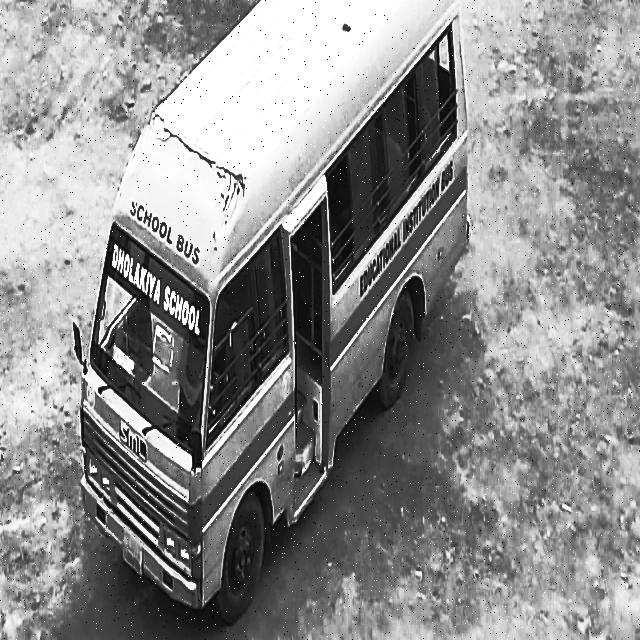Bus: (74, 27, 488, 634)
